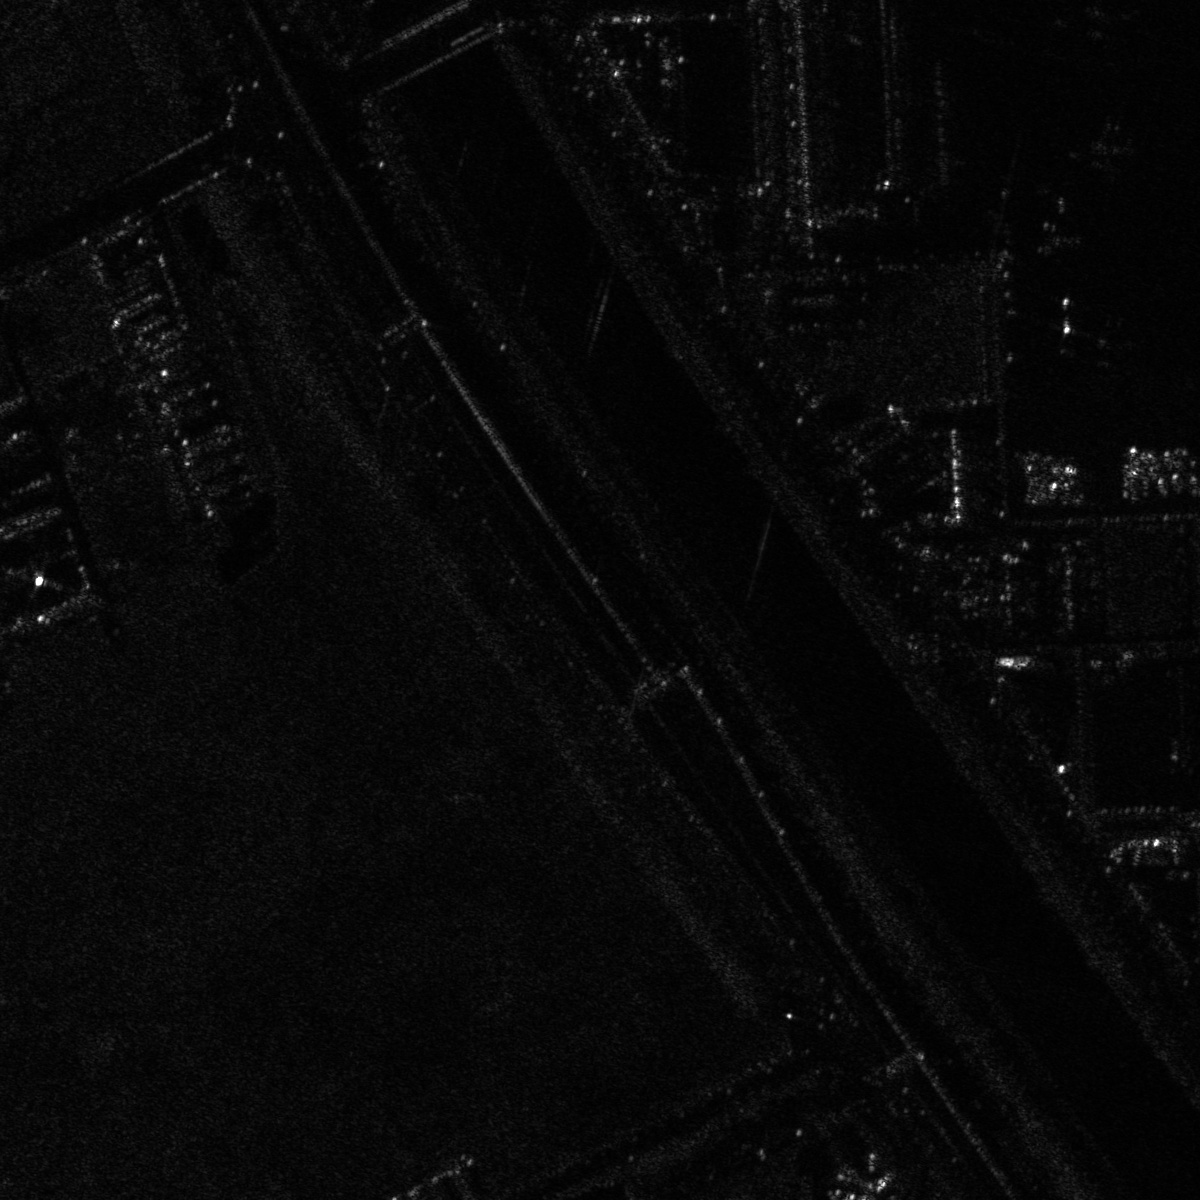A220: (1062, 116, 1141, 184)
